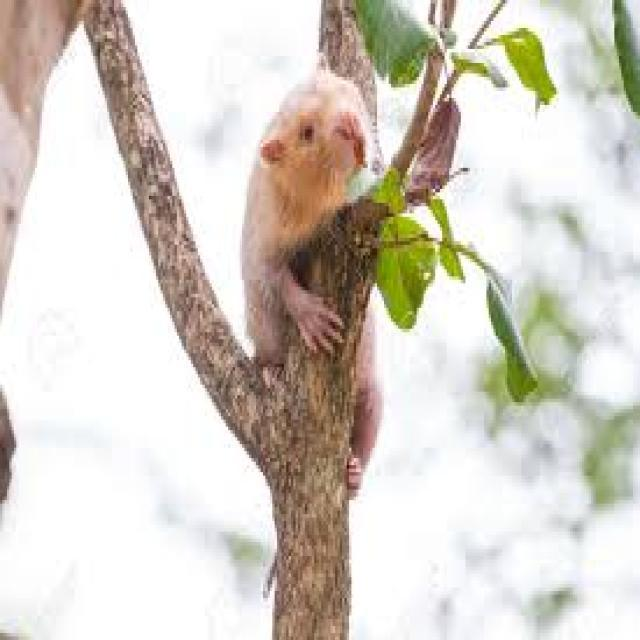Rat: (228, 64, 376, 372)
